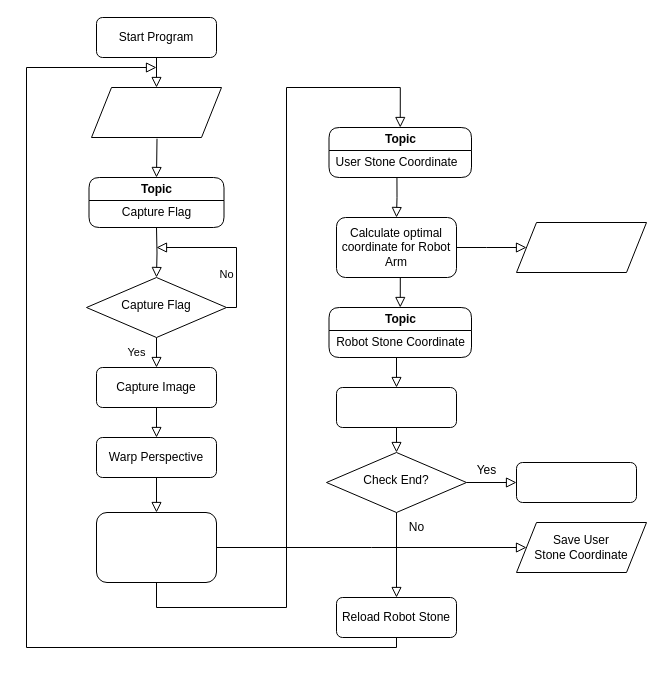
Some shapes in this 664 by 675 pixel diagram are drawn without their labels. The shapes that lost their labels are listed below. From the top down, each one's centre as x and y in pixels, then its label:
At pixel 156 112: "User Places Stone in 5 sec".
At pixel 581 247: "Save Robot Stone Coordinate".
At pixel 396 407: "Robot Places Stone".
At pixel 576 482: "Finish Program".
At pixel 156 547: "Extract Newly placed stone location using image processing".
